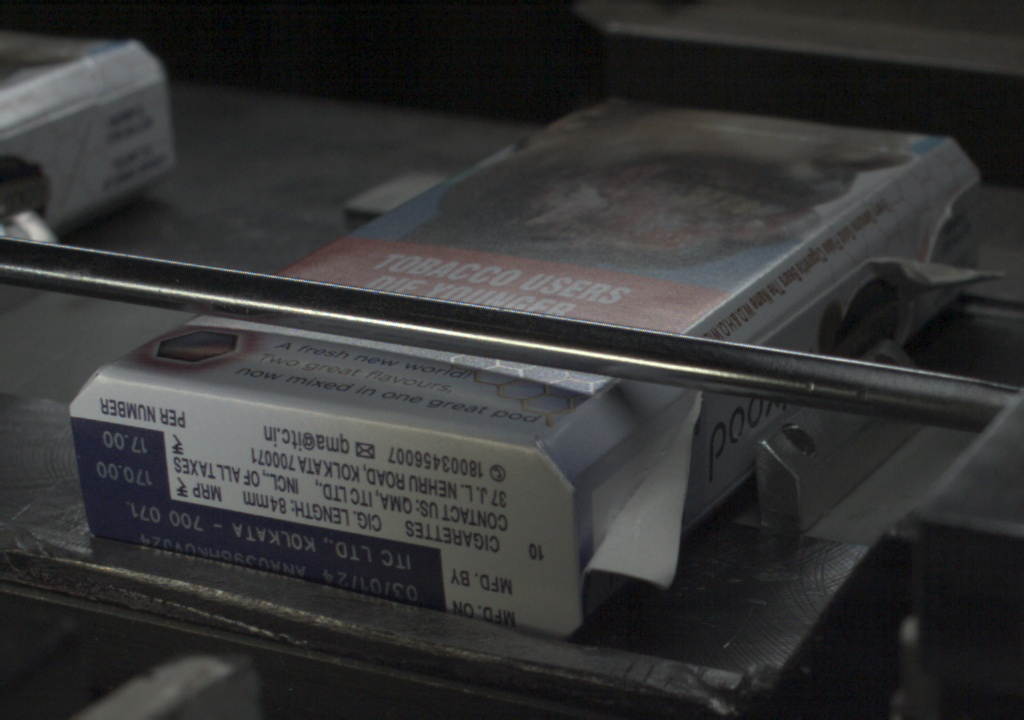g_bottom: (67, 373, 584, 643)
g_label: (82, 495, 442, 606)
g_lmiter: (766, 275, 852, 341)
ng_lmiter: (583, 392, 701, 573), (871, 252, 985, 318)
ng_miter: (928, 178, 978, 227)
price: (74, 425, 170, 495)
